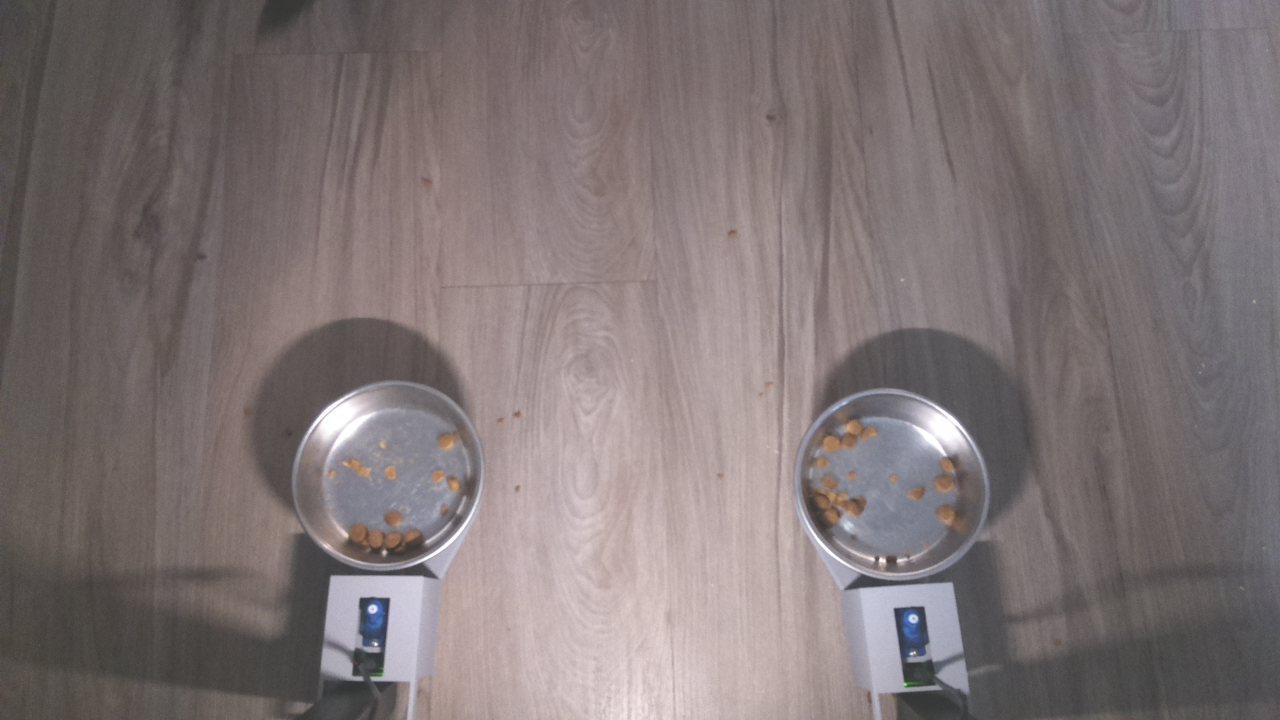open_bowl: (791, 386, 991, 587), (289, 377, 485, 572)
